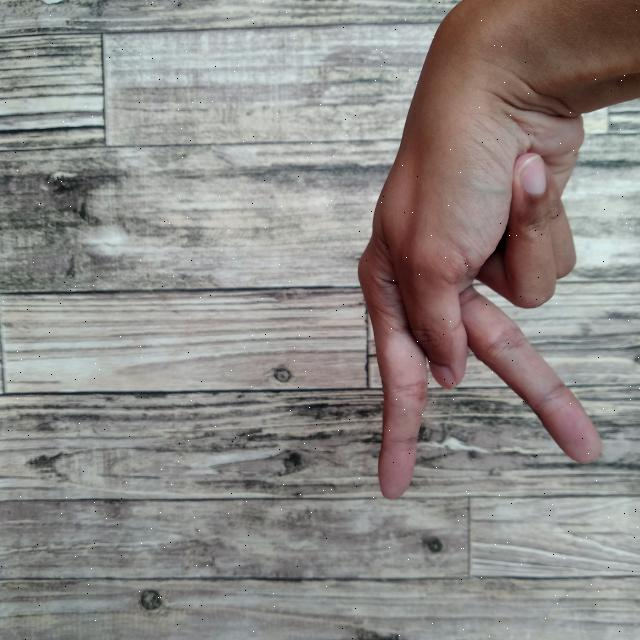P: (350, 0, 640, 505)
